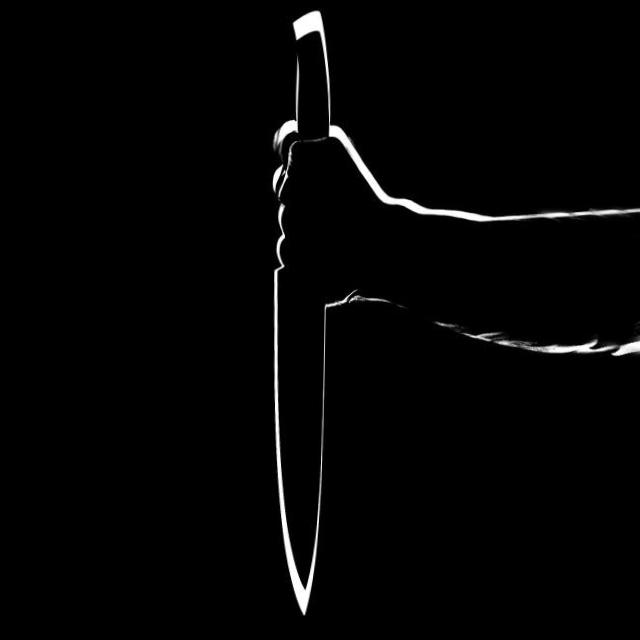Knife: (273, 11, 384, 612)
